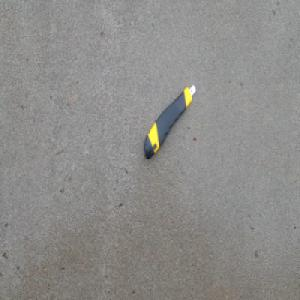Cutter: (143, 82, 196, 160)
